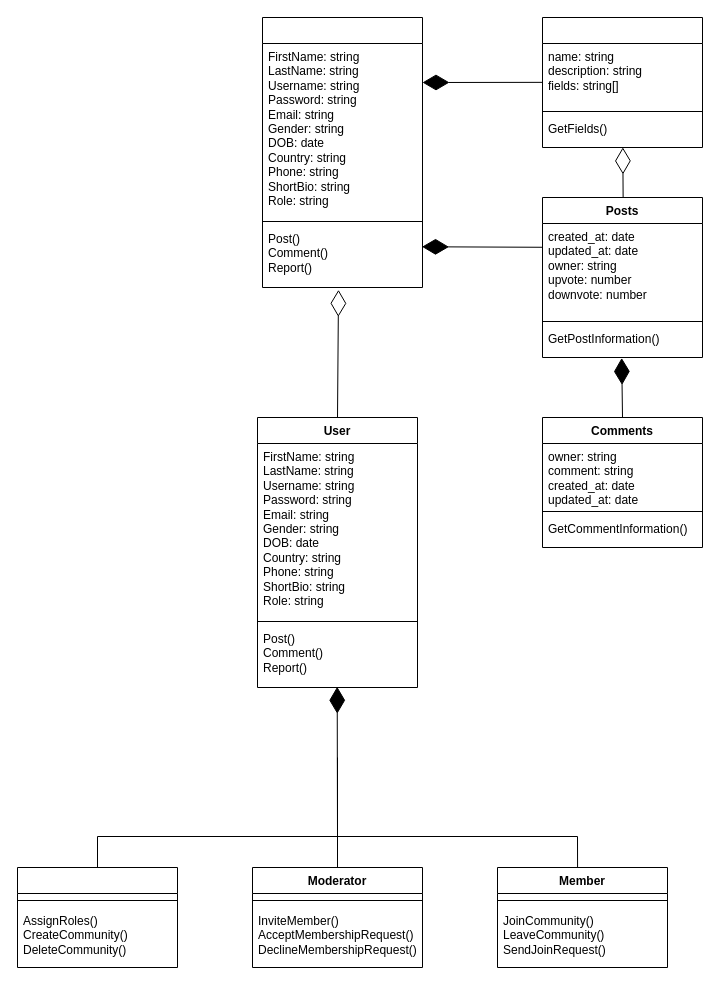
The diagram is 720 pixels wide and 988 high, and some of its shapes have lost their labels. Each missing label, with the box of its shape:
Community: (262, 16, 422, 288)
Owner: (16, 866, 178, 968)
Templates: (542, 16, 702, 148)
